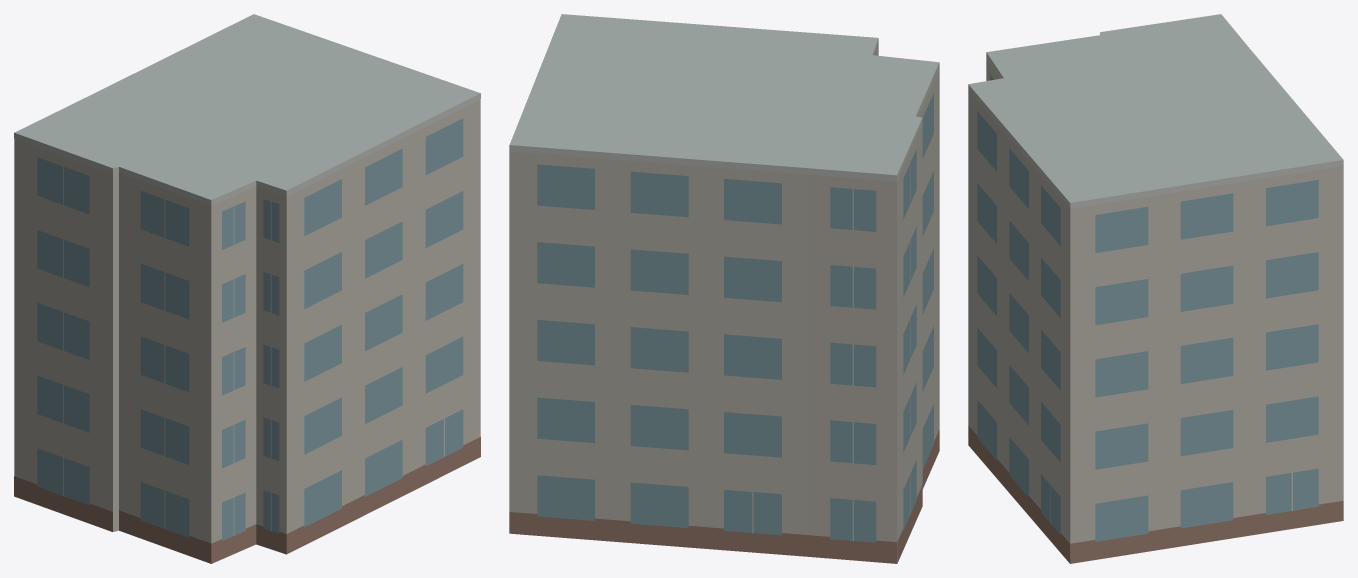
The model's file is survey-upis-32952231.glb.
The picture shows the model from 3 angles, left to right: view 1: azimuth 30°, elevation 25°; view 2: azimuth 150°, elevation 25°; view 3: azimuth 270°, elevation 25°; orthographic projection. The views are drawn at different scales.
Parts seen in each view (by area): view 1: survey-upis-32952231.tmp; view 2: survey-upis-32952231.tmp; view 3: survey-upis-32952231.tmp.
Boxes of the visible parts, x1=… form: survey-upis-32952231.tmp: x1=14, y1=14, x2=480, y2=563; survey-upis-32952231.tmp: x1=509, y1=14, x2=939, y2=563; survey-upis-32952231.tmp: x1=968, y1=14, x2=1343, y2=563.
Size of the model in its own units: 16.63 by 14.8 by 13.96.
